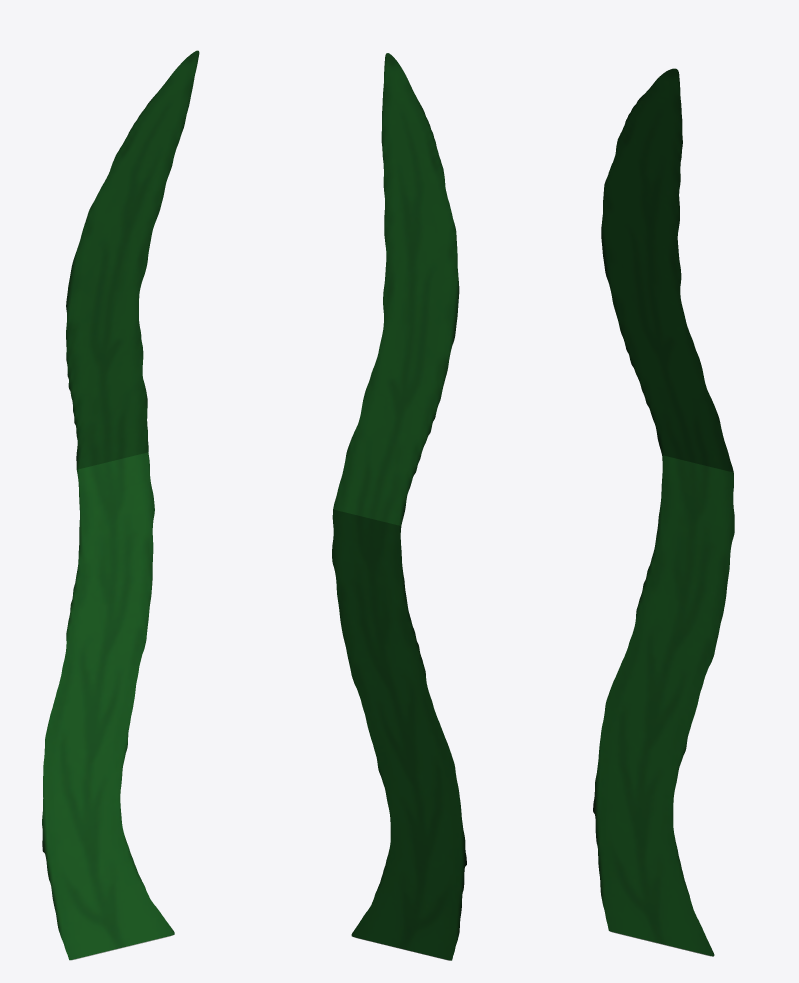
File: UnderwaterPlant.fbx
3 renders of one model, left to right at view 1: azimuth 30°, elevation 25°; view 2: azimuth 150°, elevation 25°; view 3: azimuth 330°, elevation 25°, orthographic. The views are drawn at different scales.
Parts seen in each view (by area): view 1: Plane; view 2: Plane; view 3: Plane.
Part boxes in pixels (x1,y1,x2,y2): Plane: [42, 50, 199, 960]; Plane: [332, 53, 466, 960]; Plane: [593, 68, 734, 956].
Size of the model in its own units: 0.4156 by 2 by 0.2186.
